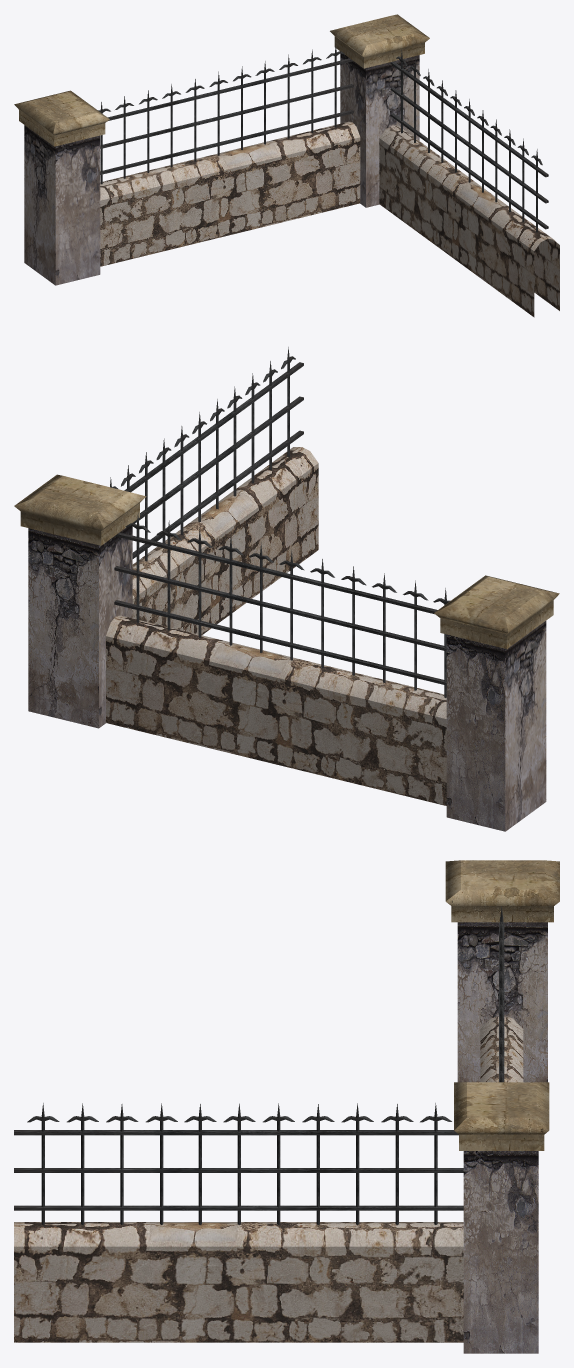
File: Wall_Left_02_ALT.fbx
The picture shows the model from 3 angles, top to bottom: view 1: azimuth 30°, elevation 25°; view 2: azimuth 150°, elevation 25°; view 3: azimuth 270°, elevation 25°; orthographic projection. The views are drawn at different scales.
Visible parts, largest first — view 1: wall_left_02; view 2: wall_left_02; view 3: wall_left_02.
Part boxes in pixels (box(x1,y1,x2,y2)): wall_left_02: box(14, 14, 559, 317); wall_left_02: box(14, 347, 559, 831); wall_left_02: box(14, 860, 559, 1353).
Bounding box in the file's own units: 8.5 × 3.45 × 7.28.
